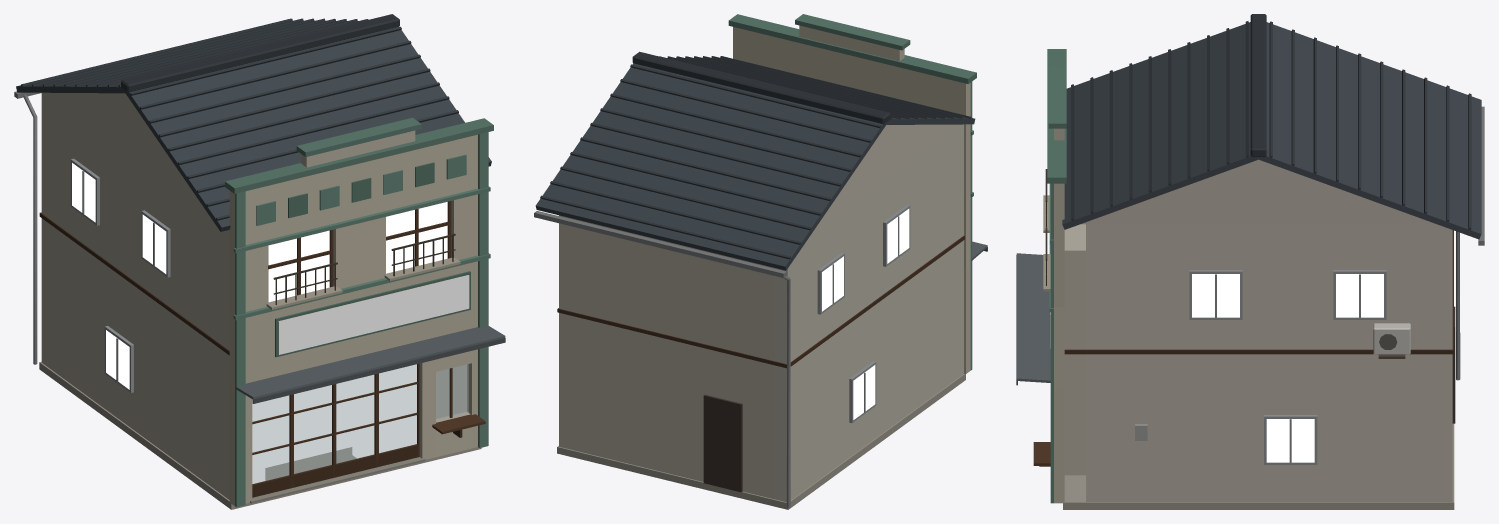
Rendered from building_shop_old_01.glb.
3 views of the same model, side by side, from view 1: azimuth 30°, elevation 25°; view 2: azimuth 150°, elevation 25°; view 3: azimuth 270°, elevation 25° (orthographic). The views are drawn at different scales.
Visible parts, largest first — view 1: building_shop_old_01; view 2: building_shop_old_01; view 3: building_shop_old_01.
Boxes of the visible parts, x1,y1,x2,y2 form: building_shop_old_01: (14,14,505,509); building_shop_old_01: (534,14,987,509); building_shop_old_01: (1016,14,1484,509).
Size of the model in its own units: 6.14 by 7.59 by 8.78.
